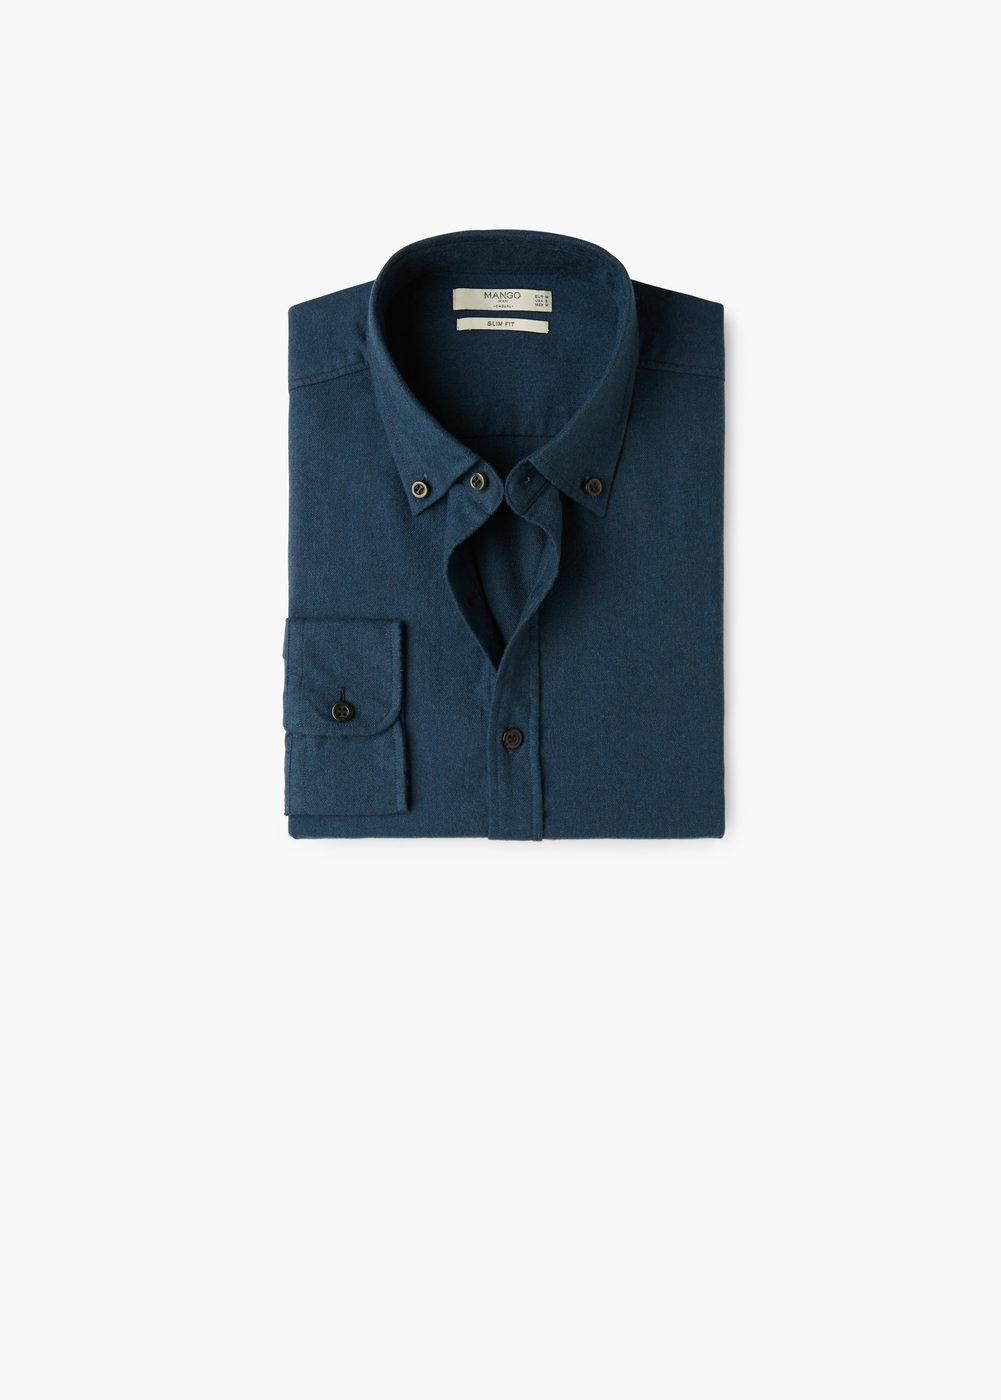teeshirt: (255, 212, 763, 876)
